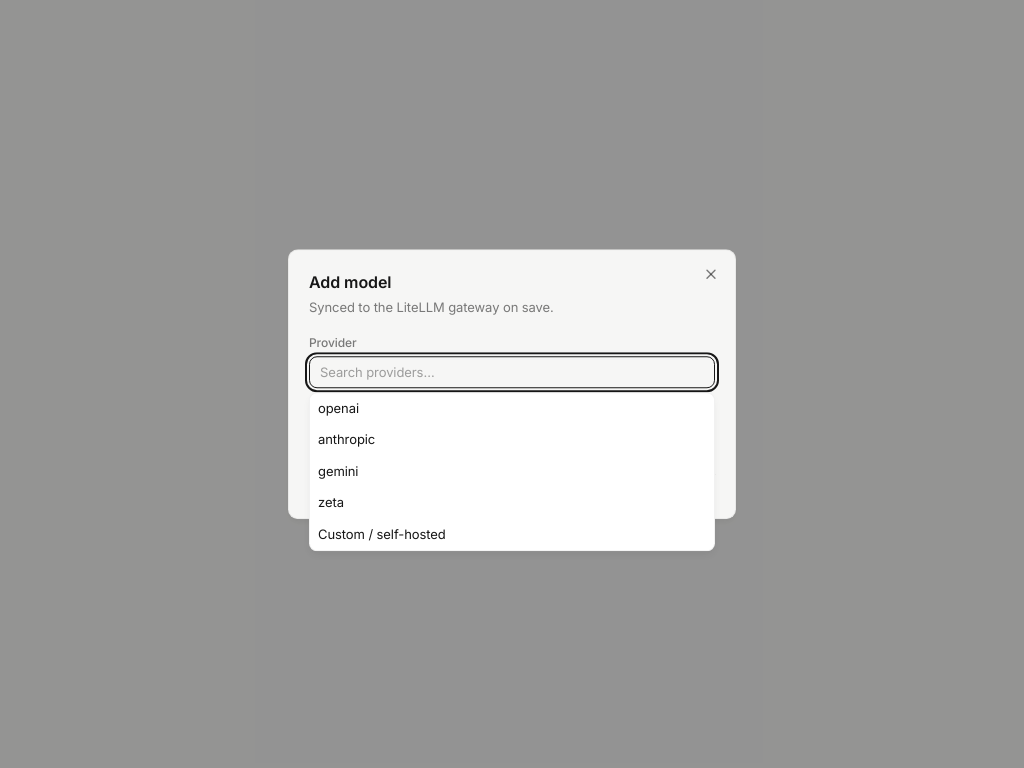
Test: provider picker filters as you type
This screenshot has width=1024, height=768.
In the dropdown labelled "Provider": (512, 372) 309,356 -> 715,388, type "anthro"
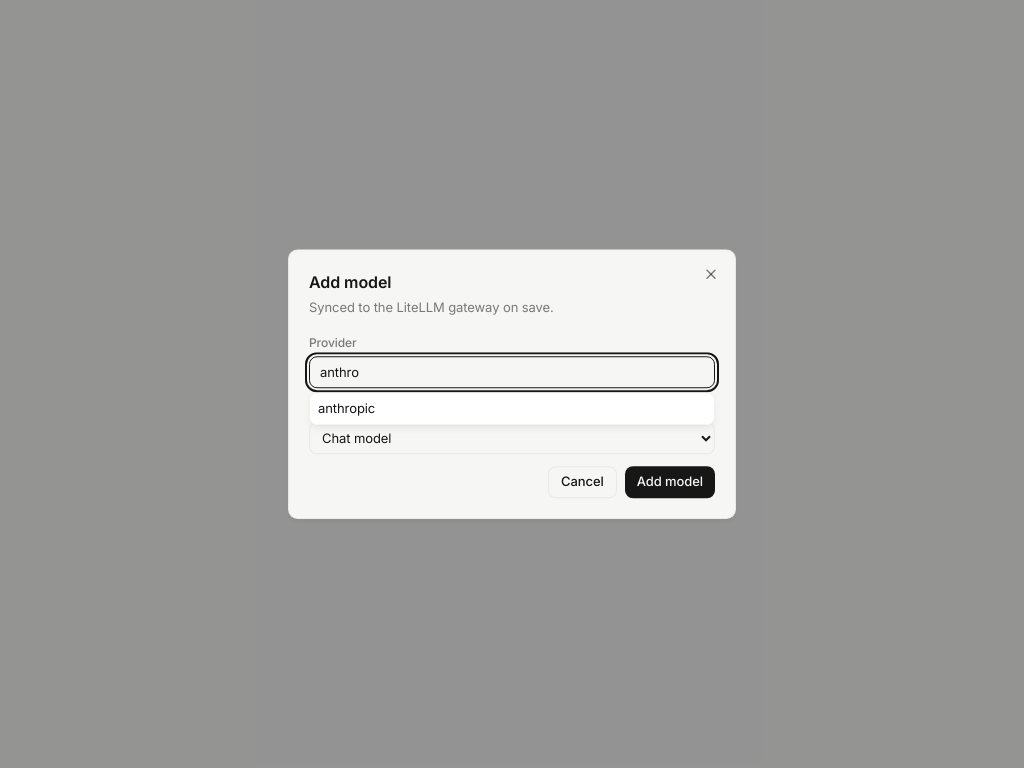
Expected: the options read "anthropic", in this order, 310,393 -> 714,424
